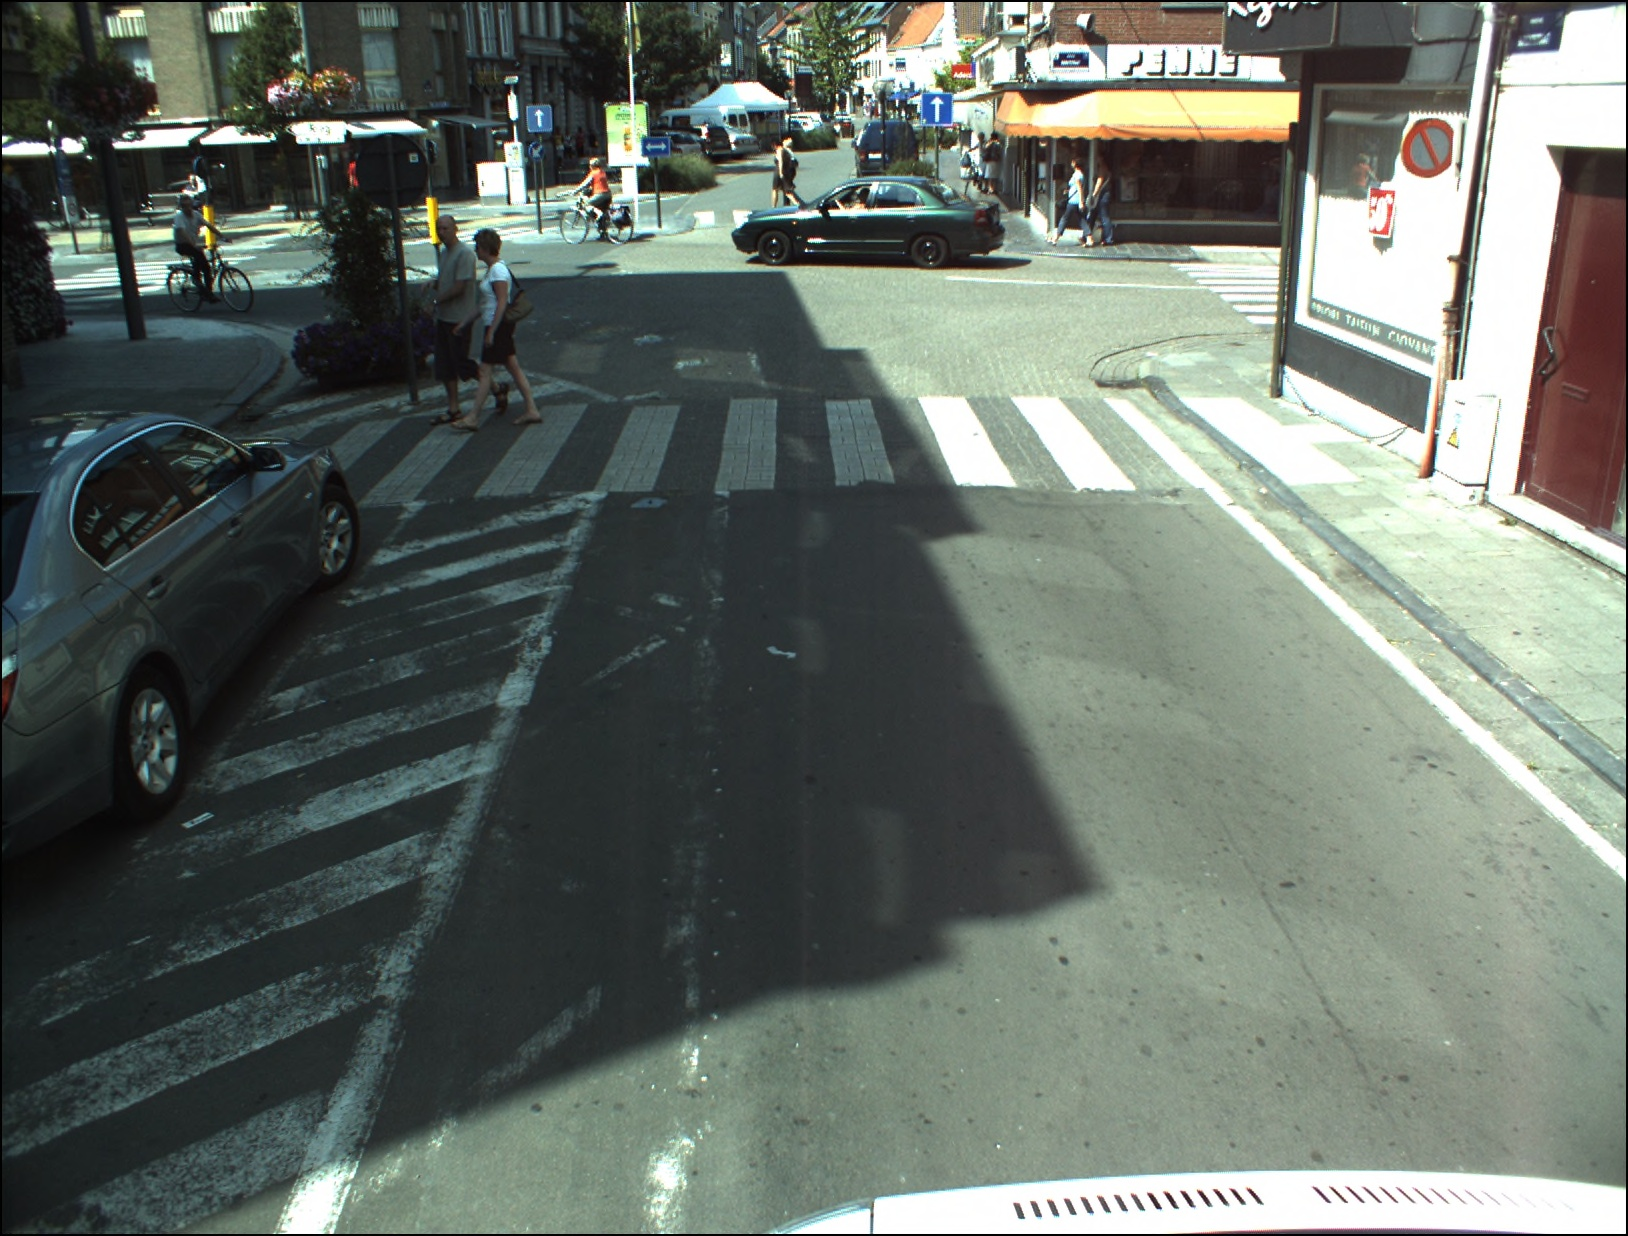noparking: (1403, 117, 1451, 178)
oneway: (920, 93, 957, 125), (919, 92, 956, 123), (526, 106, 553, 132)
